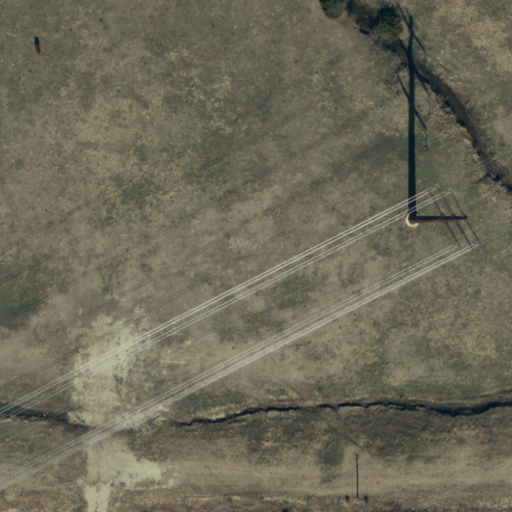TT: (400, 179, 484, 260)
